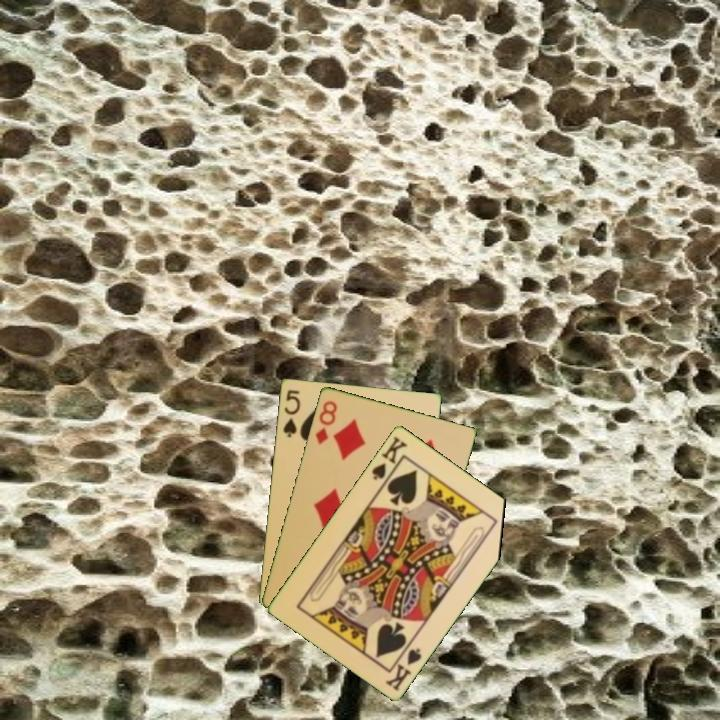5s: (279, 386, 303, 440)
8d: (312, 397, 340, 447)
Ks: (382, 638, 425, 694), (368, 432, 410, 488)
